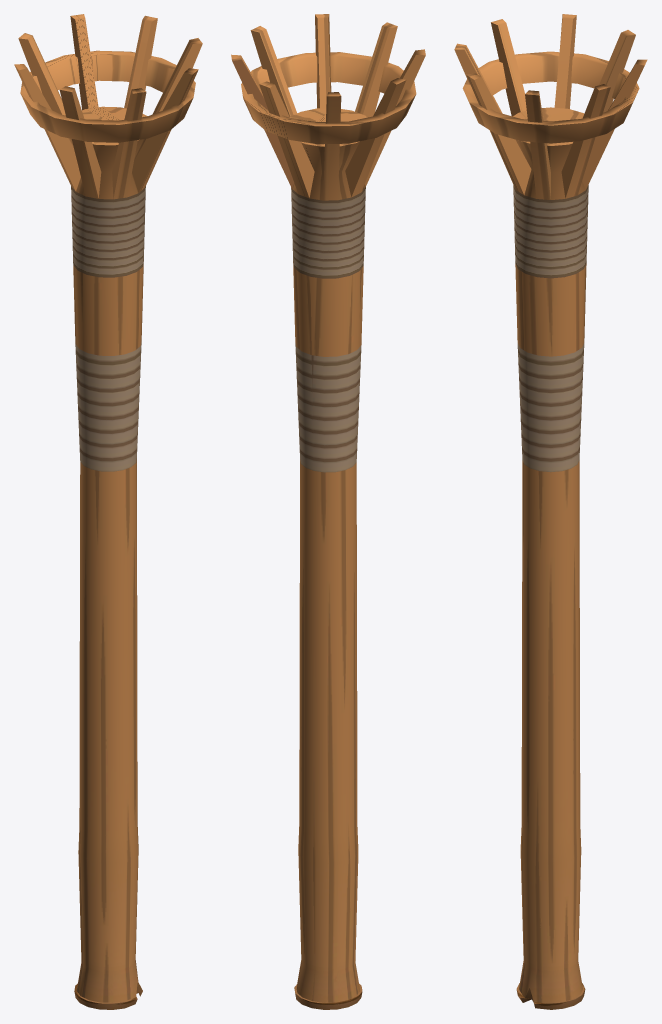
The model's file is Torch.fbx.
3 renders of one model, left to right at view 1: azimuth 30°, elevation 25°; view 2: azimuth 150°, elevation 25°; view 3: azimuth 270°, elevation 25°, orthographic.
Visible parts, largest first — view 1: Torch; view 2: Torch; view 3: Torch.
Part boxes in pixels (x1,y1,x2,y2): Torch: (14, 14, 202, 1009); Torch: (231, 14, 425, 1009); Torch: (454, 14, 647, 1009).
Bounding box in the file's own units: 0.5334 × 2.87 × 0.5334.
Materials: 1 (1 with a texture image).
